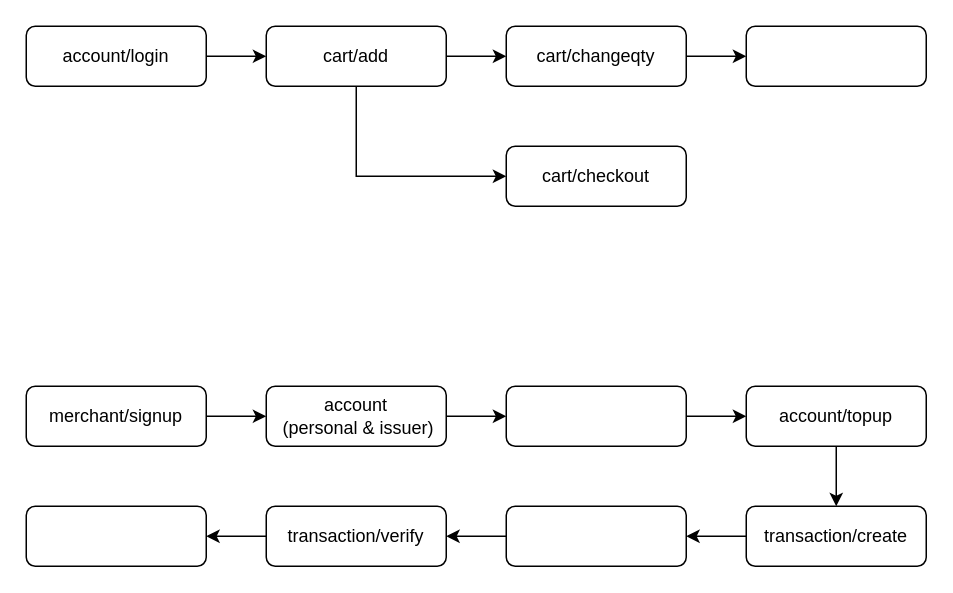
Image size: 953x593. Some labels were removed from this diagram. Here are the shapes that lost their labels. From the top down, the box of each, then its label:
(745, 25, 926, 86): cart/delete
(505, 385, 686, 446): get account token
(25, 505, 206, 566): transaction/cancle
(505, 505, 686, 566): transaction/confirm
